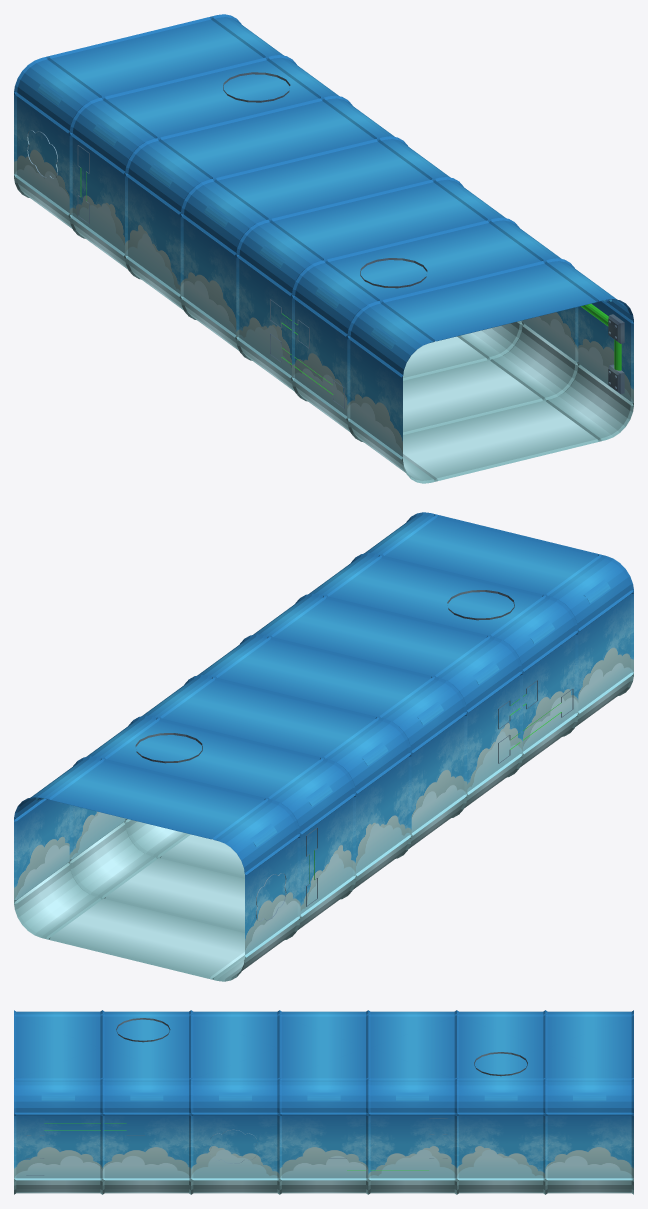
The model's file is Level 3 Room 1 .fbx.
3 views of the same model, one above another, from view 1: azimuth 30°, elevation 25°; view 2: azimuth 150°, elevation 25°; view 3: azimuth 270°, elevation 25° (orthographic). The views are drawn at different scales.
Parts seen in each view (by area): view 1: Level 3 Main Body 1.005, Level 3 Main Body 1.001, Level 3 Main Body 2, Level 3 Main Body 1, Level 3 Main Body 1.002, Level 3 Main Body 2.001, Level 3 Main Body 2.003, Level 3 Pipe 3.002; view 2: Level 3 Main Body 1.002, Level 3 Main Body 2.003, Level 3 Main Body 2.001, Level 3 Main Body 1, Level 3 Main Body 1.005, Level 3 Main Body 2, Level 3 Main Body 1.001; view 3: Level 3 Main Body 1, Level 3 Main Body 1.002, Level 3 Main Body 1.005, Level 3 Main Body 2, Level 3 Main Body 2.001, Level 3 Main Body 2.003, Level 3 Main Body 1.001.
Boxes of the visible parts, left/top/right/bottom form: Level 3 Main Body 1.005: left=347, top=258, right=633, bottom=483; Level 3 Main Body 1.001: left=292, top=217, right=578, bottom=434; Level 3 Main Body 2: left=236, top=177, right=522, bottom=391; Level 3 Main Body 1: left=180, top=136, right=450, bottom=350; Level 3 Main Body 1.002: left=14, top=14, right=283, bottom=228; Level 3 Main Body 2.001: left=125, top=95, right=394, bottom=310; Level 3 Main Body 2.003: left=69, top=55, right=339, bottom=269; Level 3 Pipe 3.002: left=581, top=303, right=624, bottom=393; Level 3 Main Body 1.002: left=14, top=756, right=300, bottom=981; Level 3 Main Body 2.003: left=69, top=715, right=355, bottom=932; Level 3 Main Body 2.001: left=125, top=675, right=411, bottom=889; Level 3 Main Body 1: left=197, top=634, right=467, bottom=848; Level 3 Main Body 1.005: left=364, top=512, right=633, bottom=726; Level 3 Main Body 2: left=253, top=593, right=522, bottom=808; Level 3 Main Body 1.001: left=308, top=553, right=578, bottom=767; Level 3 Main Body 1: left=279, top=1010, right=368, bottom=1194; Level 3 Main Body 1.002: left=545, top=1010, right=633, bottom=1194; Level 3 Main Body 1.005: left=14, top=1010, right=102, bottom=1194; Level 3 Main Body 2: left=191, top=1010, right=279, bottom=1194; Level 3 Main Body 2.001: left=368, top=1010, right=456, bottom=1194; Level 3 Main Body 2.003: left=457, top=1010, right=545, bottom=1194; Level 3 Main Body 1.001: left=102, top=1010, right=190, bottom=1194.
Size of the model in its own units: 2117 by 1232 by 6174.
